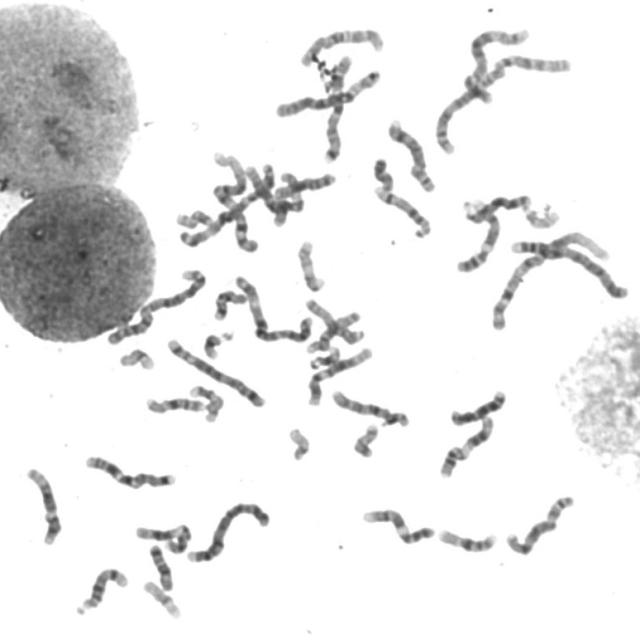A1: (486, 225, 617, 332), (207, 148, 261, 254)
A2: (429, 49, 576, 155), (103, 262, 209, 347)
A3: (174, 158, 278, 249), (231, 268, 316, 345)
B4: (506, 232, 633, 302), (182, 496, 274, 566)
B5: (162, 332, 269, 409), (460, 22, 532, 102)
C10: (295, 22, 387, 68), (326, 384, 414, 429)
C11: (435, 410, 498, 480), (132, 517, 194, 555)
C12: (302, 341, 376, 408), (20, 461, 64, 546)
C6: (270, 64, 384, 119), (242, 158, 308, 216)
C7: (318, 49, 356, 164), (80, 449, 179, 491)
C8: (501, 490, 577, 557), (383, 113, 438, 193)
C9: (452, 192, 503, 274), (358, 503, 437, 546)
D13: (446, 383, 509, 428), (461, 188, 535, 225)
D14: (369, 180, 434, 239), (71, 562, 131, 617)
D15: (301, 293, 368, 345), (302, 306, 364, 354)
E16: (433, 522, 501, 555), (140, 391, 208, 415)
E17: (294, 235, 328, 293), (185, 379, 227, 424)
E18: (145, 539, 176, 592), (209, 284, 249, 321)
F19: (139, 575, 184, 620), (115, 343, 158, 371)
F20: (349, 418, 381, 459), (172, 203, 216, 230)
G21: (198, 325, 236, 361), (305, 341, 344, 371)
G22: (520, 201, 562, 229), (284, 422, 312, 462)
Y: (369, 152, 396, 192)
